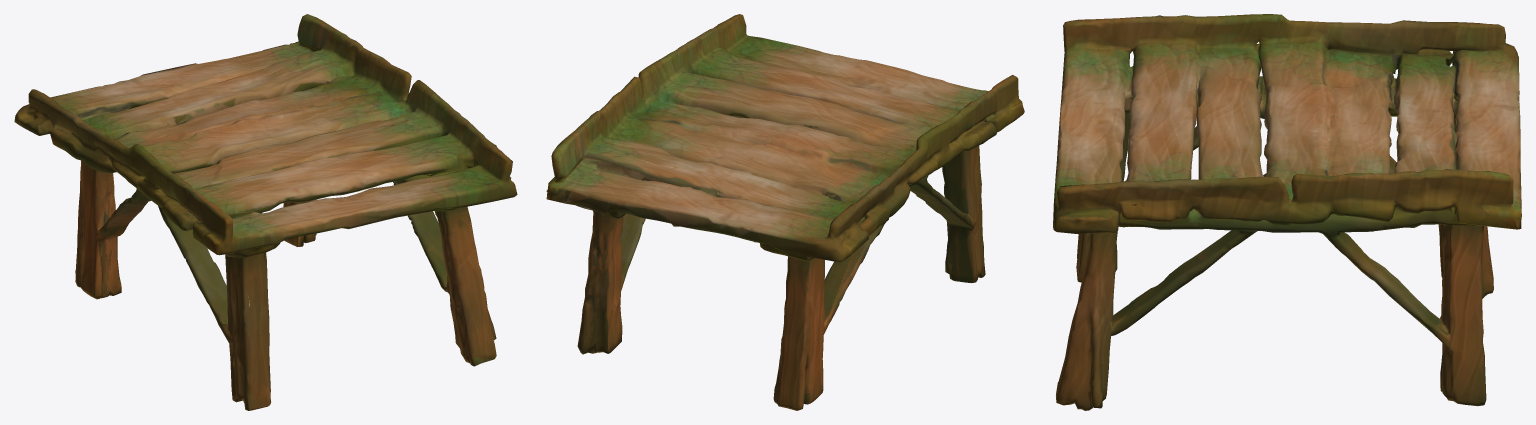
File: dock2.fbx
The picture shows the model from 3 angles, left to right: view 1: azimuth 30°, elevation 25°; view 2: azimuth 150°, elevation 25°; view 3: azimuth 270°, elevation 25°; orthographic projection. The views are drawn at different scales.
Parts seen in each view (by area): view 1: Layer_1; view 2: Layer_1; view 3: Layer_1.
Part boxes in pixels (x1,y1,x2,y2): Layer_1: [14, 14, 517, 410]; Layer_1: [546, 14, 1024, 410]; Layer_1: [1053, 14, 1521, 410].
Bounding box in the file's own units: 74.92 × 50.88 × 85.06.
